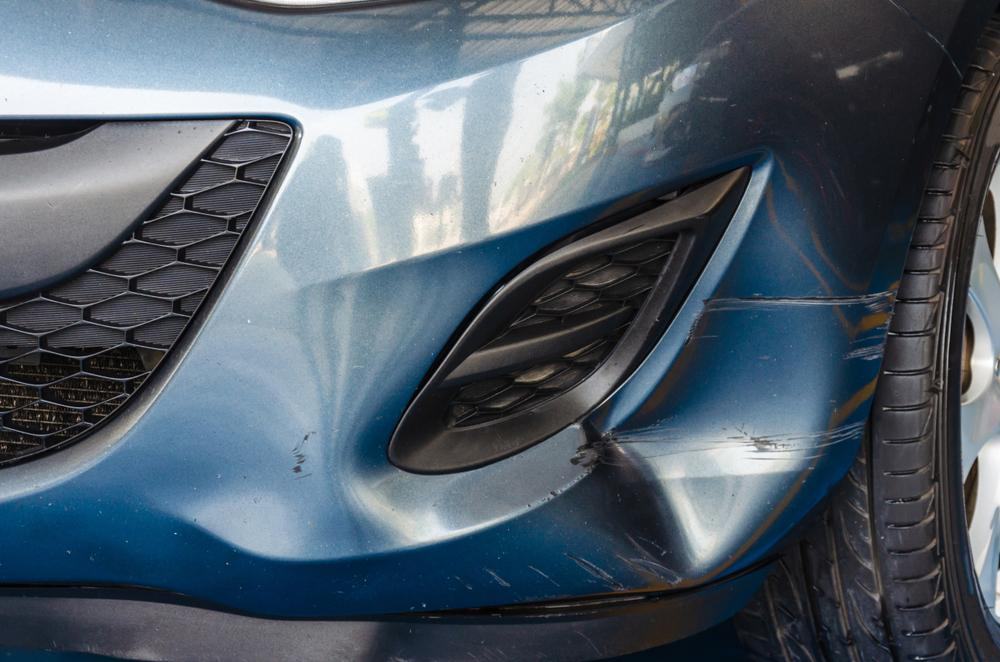dent: (615, 161, 832, 560), (145, 426, 313, 554)
scratch: (815, 280, 903, 453), (478, 539, 683, 596)
